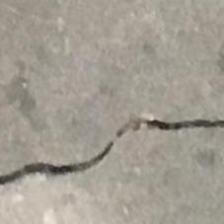Crack: (0, 25, 223, 224)
